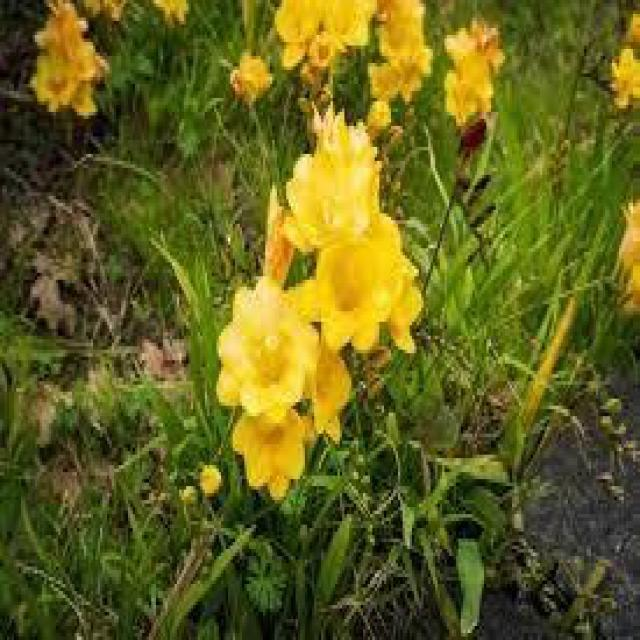freesia: (213, 111, 442, 500)
